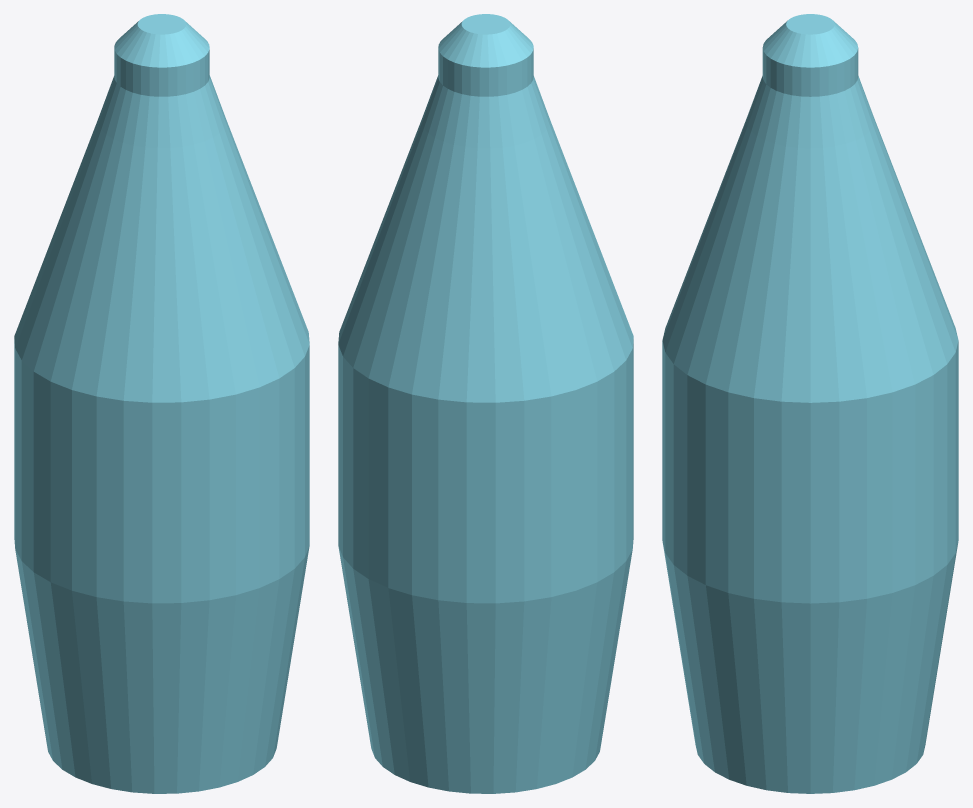
Rendered from Bottle.fbx.
3 views of the same model, side by side, from view 1: azimuth 30°, elevation 25°; view 2: azimuth 150°, elevation 25°; view 3: azimuth 270°, elevation 25° (orthographic).
Parts seen in each view (by area): view 1: Circle; view 2: Circle; view 3: Circle.
Boxes of the visible parts, box(x1,y1,x2,y2) form: Circle: box(14, 14, 309, 793); Circle: box(338, 14, 633, 793); Circle: box(662, 14, 958, 793).
Bounding box in the file's own units: 175 × 470 × 175.
